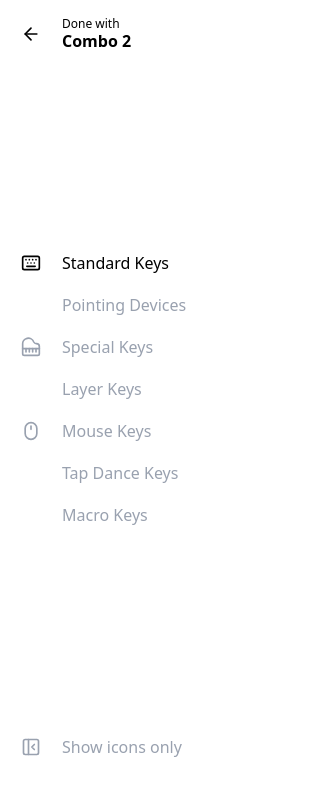
Test case: ?railMode=modal: the rail while a binding editor is open › closes the editor from the top-left exit and restores the normal rail
Click the button "Done with Combo 2" at (106, 34), box [8,16,204,51]
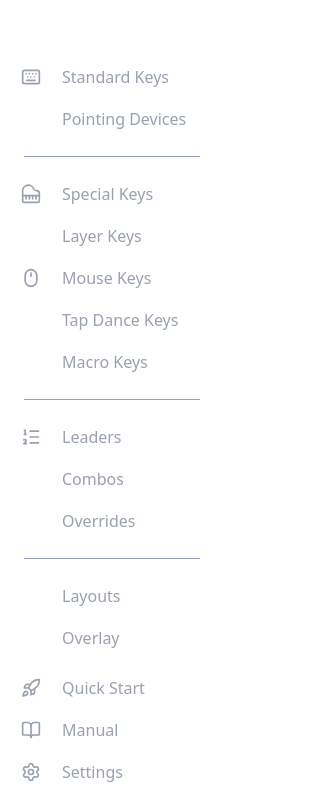
Now the button "Done with Combo 2" is gone
